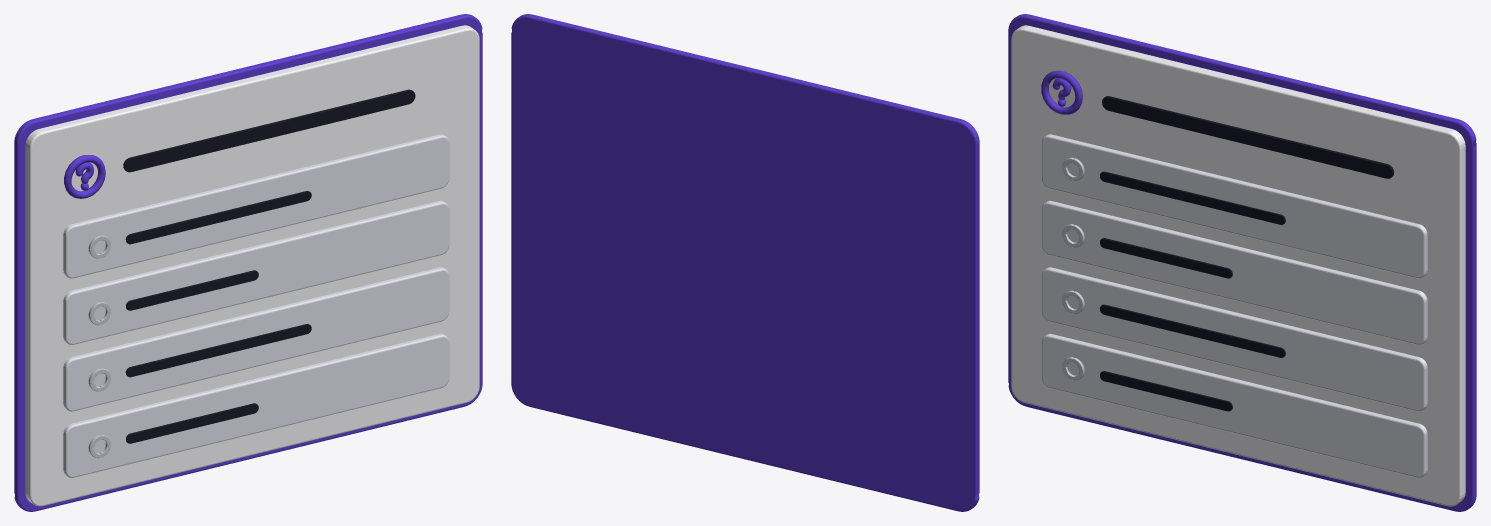
The model's file is rs_quiz_card.glb.
The picture shows the model from 3 angles, left to right: view 1: azimuth 30°, elevation 25°; view 2: azimuth 150°, elevation 25°; view 3: azimuth 330°, elevation 25°; orthographic projection.
Parts seen in each view (by area): view 1: QuizPanel, OptionBody_1, OptionBody_3, OptionBody_2, OptionBody_0, QuizEdge, QuestionText, OptionText_2, OptionText_0, OptionText_1, OptionText_3, QuizIcon; view 2: QuizEdge; view 3: QuizPanel, OptionBody_3, OptionBody_1, OptionBody_2, OptionBody_0, QuizEdge, QuestionText, OptionText_0, OptionText_2, OptionText_3, OptionText_1, QuizIcon.
Part boxes in pixels (left/top/right/bottom): QuizPanel: left=25, top=25, right=479, bottom=506; OptionBody_1: left=63, top=200, right=449, bottom=344; OptionBody_3: left=63, top=333, right=449, bottom=477; OptionBody_2: left=63, top=267, right=449, bottom=411; OptionBody_0: left=63, top=134, right=449, bottom=278; QuizEdge: left=14, top=14, right=482, bottom=511; QuestionText: left=123, top=89, right=415, bottom=172; OptionText_2: left=125, top=324, right=311, bottom=377; OptionText_0: left=125, top=191, right=311, bottom=244; OptionText_1: left=126, top=270, right=258, bottom=310; OptionText_3: left=126, top=403, right=258, bottom=443; QuizIcon: left=64, top=155, right=105, bottom=198; QuizEdge: left=511, top=14, right=979, bottom=511; QuizPanel: left=1011, top=25, right=1465, bottom=506; OptionBody_3: left=1041, top=333, right=1427, bottom=477; OptionBody_1: left=1041, top=200, right=1427, bottom=344; OptionBody_2: left=1041, top=267, right=1427, bottom=411; OptionBody_0: left=1041, top=134, right=1427, bottom=278; QuizEdge: left=1008, top=14, right=1476, bottom=511; QuestionText: left=1102, top=96, right=1394, bottom=178; OptionText_0: left=1100, top=171, right=1285, bottom=224; OptionText_2: left=1100, top=304, right=1285, bottom=357; OptionText_3: left=1100, top=371, right=1232, bottom=411; OptionText_1: left=1100, top=238, right=1232, bottom=278; QuizIcon: left=1041, top=70, right=1082, bottom=114.
Size of the model in its own units: 3.52 by 2.82 by 0.205.
